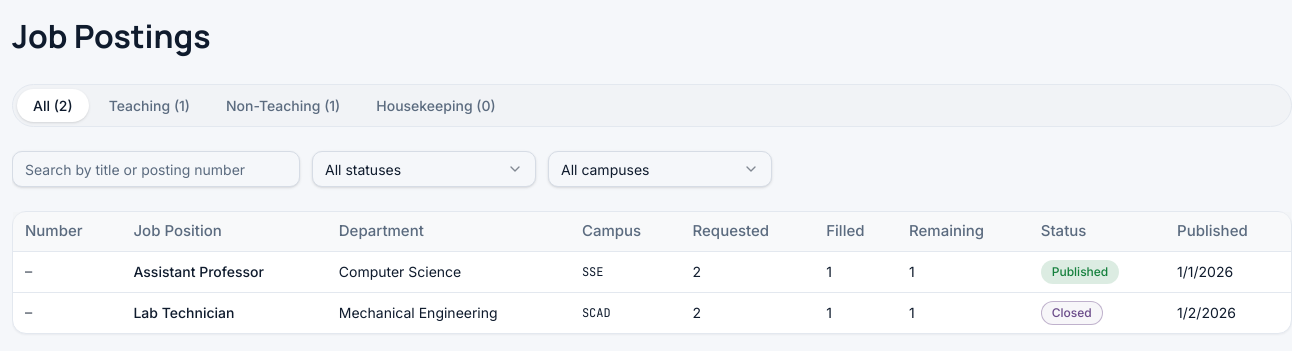
Test: JobPostingsListPage › narrows the list client-side by position-title search
Expected: the link "Assistant Professor" is shown, [134, 263, 264, 280]
Step 1. Type "lab" into the field with placeholder "Search by title or posting number" → (156, 169), box [12, 151, 300, 187]
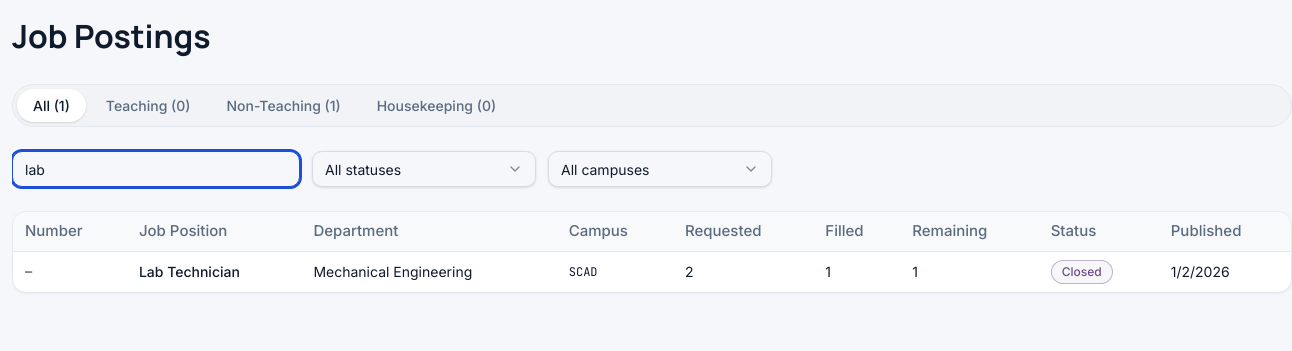
Expected: the link "Lab Technician" is shown, [139, 263, 240, 280]
Result: the link "Assistant Professor" is gone
